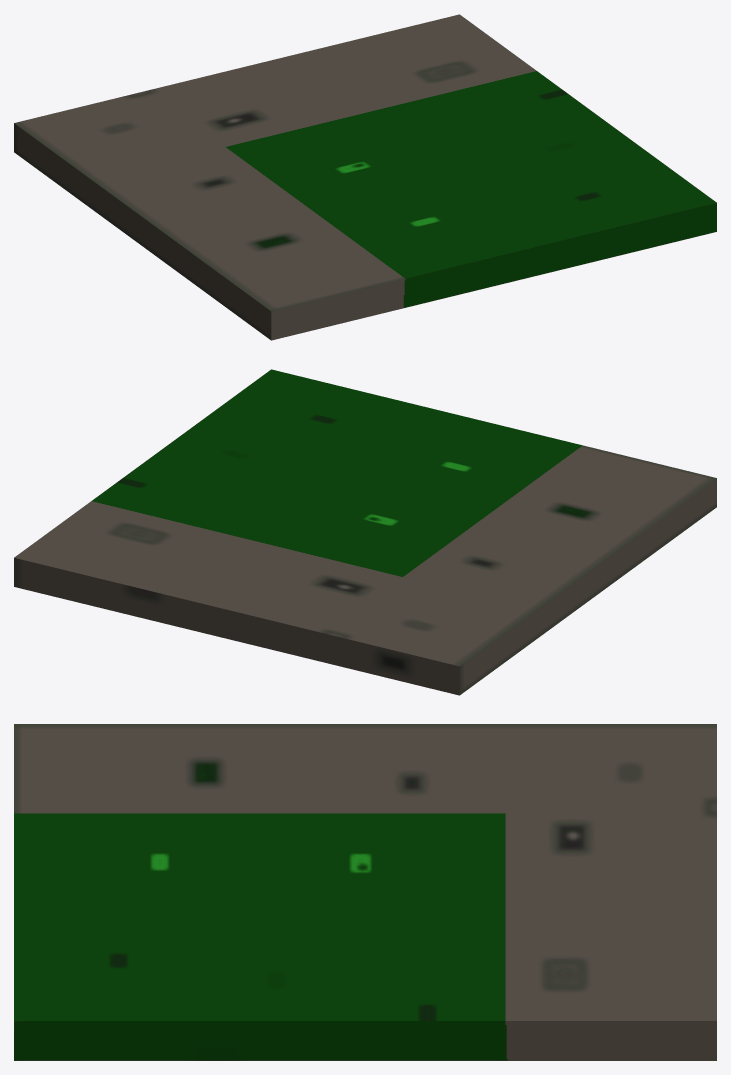
Rendered from sidewalk_8x8__outer_corner_00.glb.
The picture shows the model from 3 angles, top to bottom: view 1: azimuth 30°, elevation 25°; view 2: azimuth 150°, elevation 25°; view 3: azimuth 270°, elevation 25°; orthographic projection. The views are drawn at different scales.
Visible parts, largest first — view 1: sidewalk_8x8_outer_corner_00; view 2: sidewalk_8x8_outer_corner_00; view 3: sidewalk_8x8_outer_corner_00.
Part boxes in pixels (x1,y1,x2,y2): sidewalk_8x8_outer_corner_00: (14,14,716,340); sidewalk_8x8_outer_corner_00: (14,369,716,695); sidewalk_8x8_outer_corner_00: (14,724,716,1060).
Size of what is drawn, in the model's own units: 8 by 0.5 by 8.
1 material, 1 textured.
